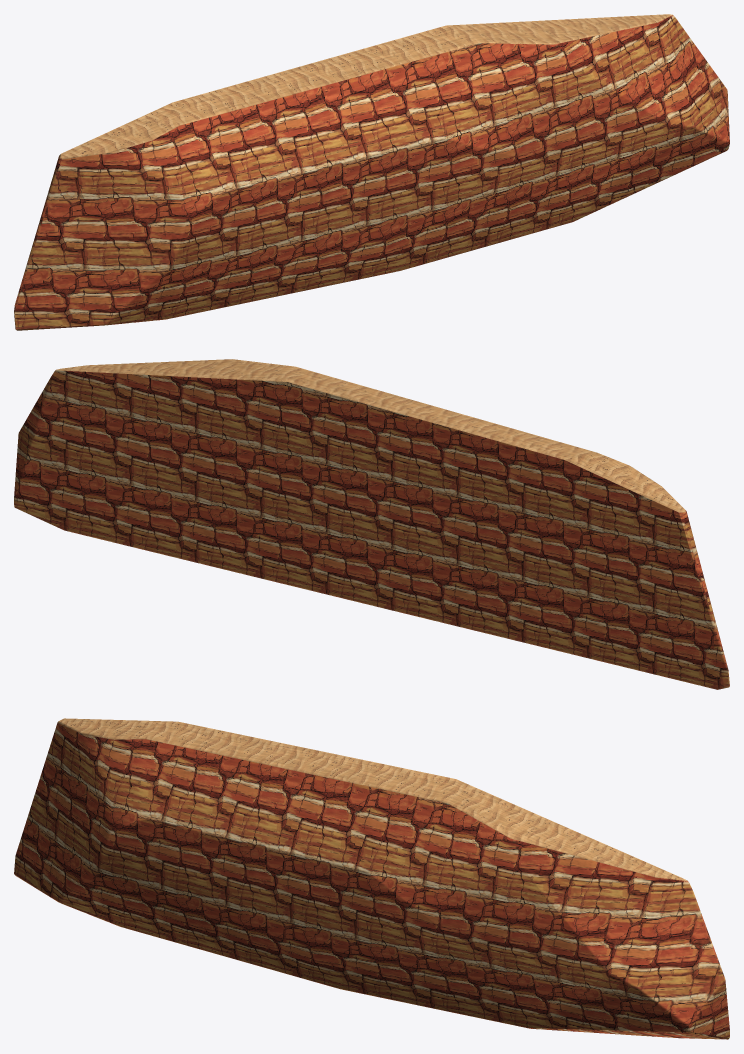
The model's file is v4_cliff_s_00.glb.
The picture shows the model from 3 angles, top to bottom: view 1: azimuth 30°, elevation 25°; view 2: azimuth 150°, elevation 25°; view 3: azimuth 330°, elevation 25°; orthographic projection.
Parts seen in each view (by area): view 1: v4_cliff_s_00; view 2: v4_cliff_s_00; view 3: v4_cliff_s_00.
Part boxes in pixels (box(x1,y1,x2,y2)): v4_cliff_s_00: box(14, 14, 729, 330); v4_cliff_s_00: box(14, 359, 729, 689); v4_cliff_s_00: box(14, 718, 729, 1039).
Bounding box in the file's own units: 21.95 × 5.98 × 2.4.
Materials: 1 (1 with a texture image).
